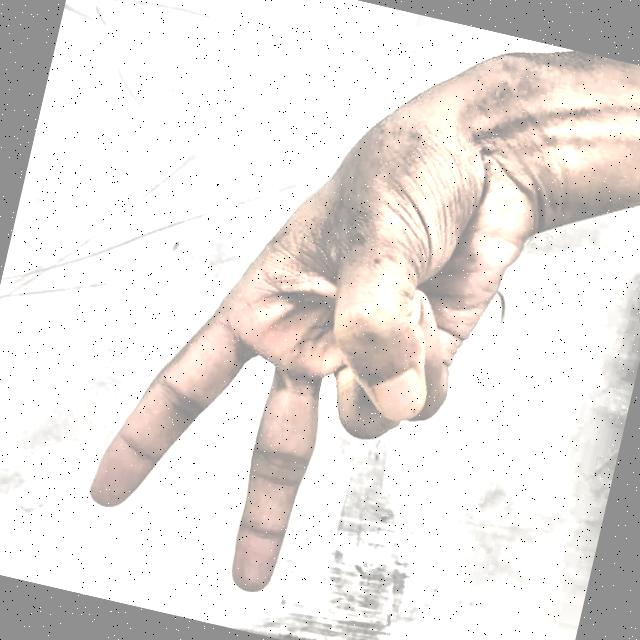Pa: (46, 5, 574, 640)
